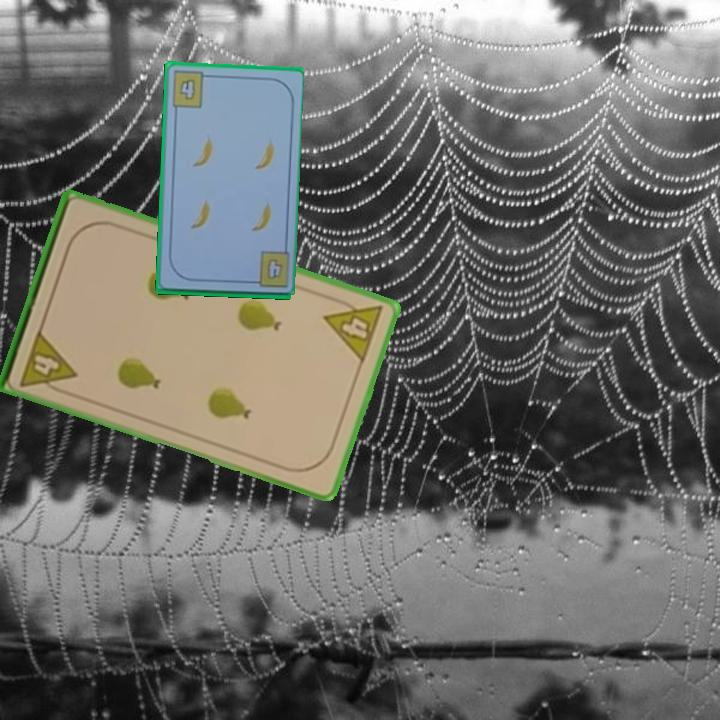4b: (168, 68, 213, 111), (263, 255, 285, 282)
4p: (320, 292, 386, 366), (16, 326, 80, 398)
